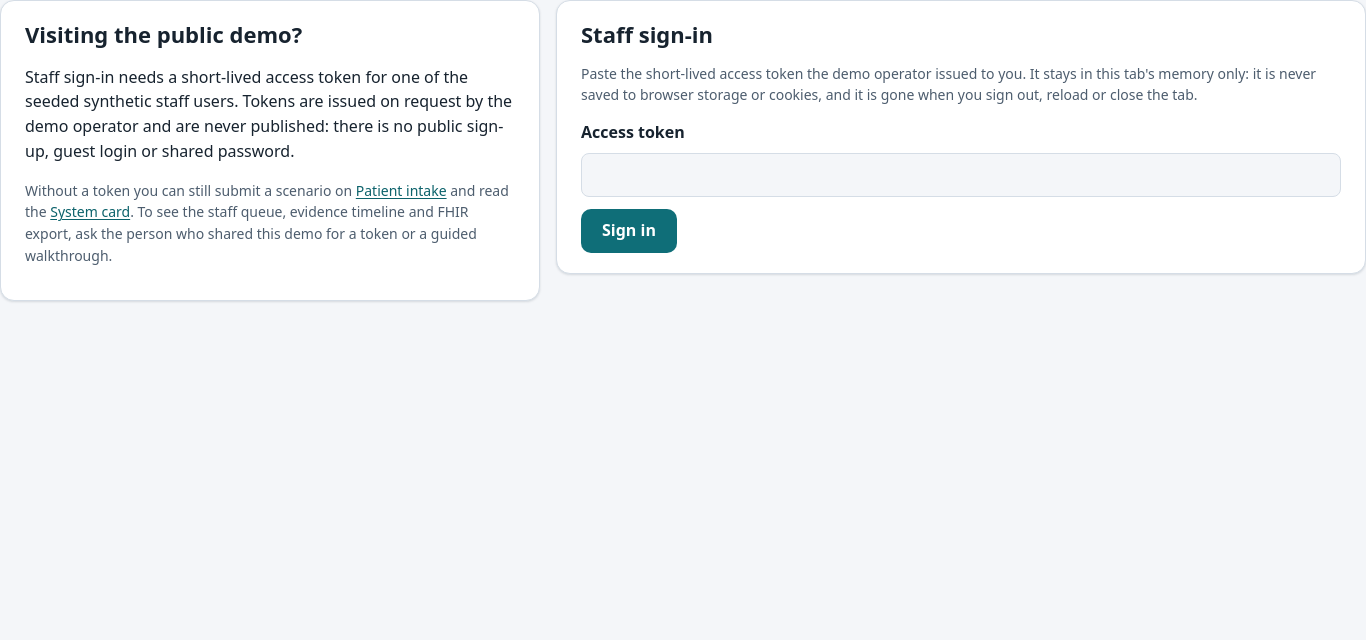
Test: StaffReview detail and transitions › transitions needs_review -> escalated and cannot transition again
In the password field labelled "Access token": x=961, y=175 [581, 153, 1341, 197], type "v1.payload.signature"
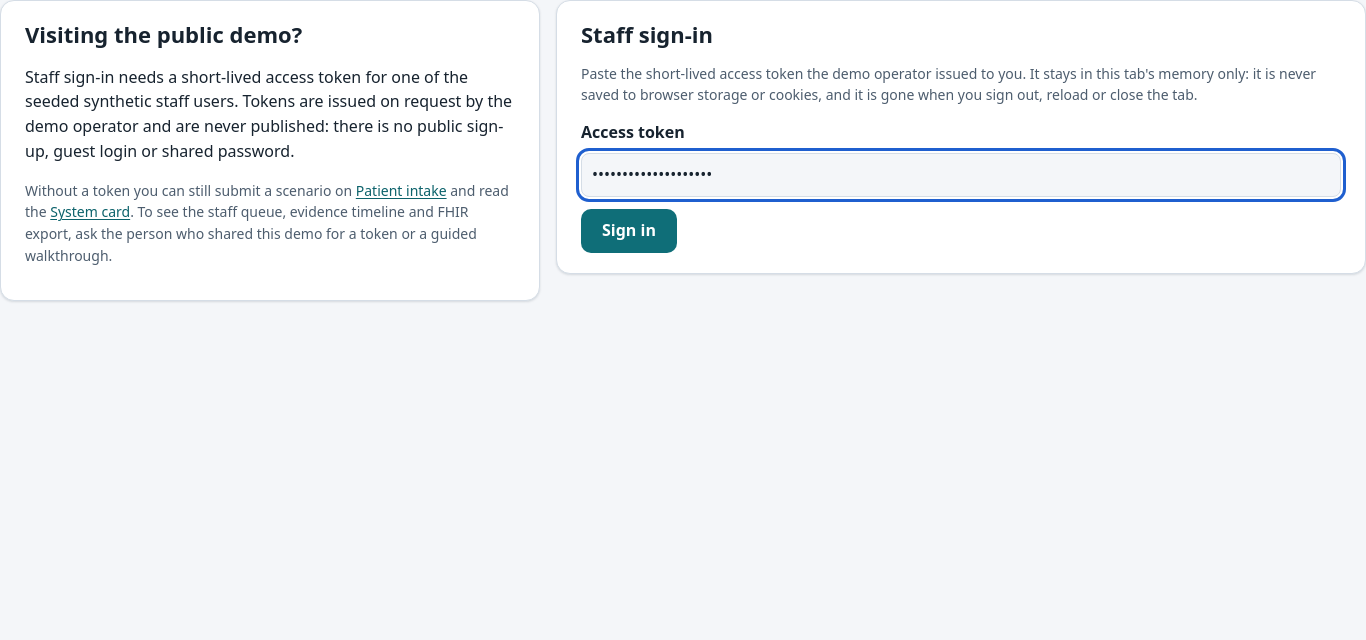
Click the button "Sign in": x=629, y=231 [581, 209, 677, 253]
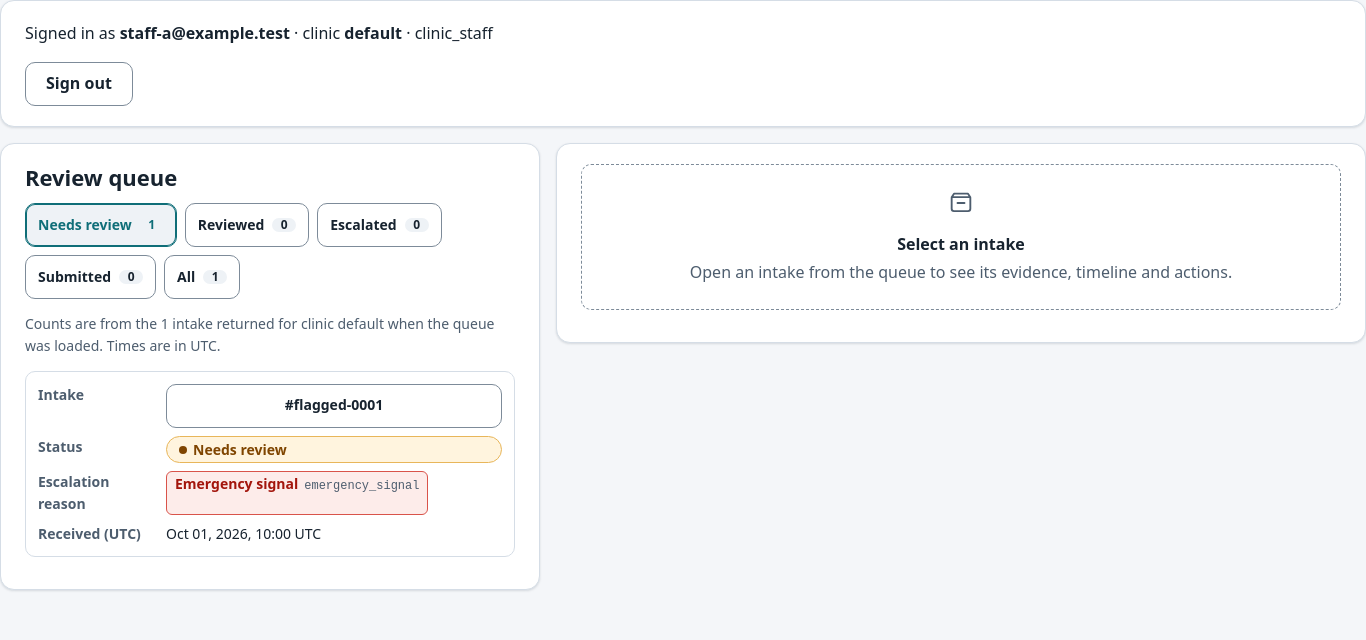
Click the button with aria-label "Open ": x=334, y=406 [166, 384, 502, 428]
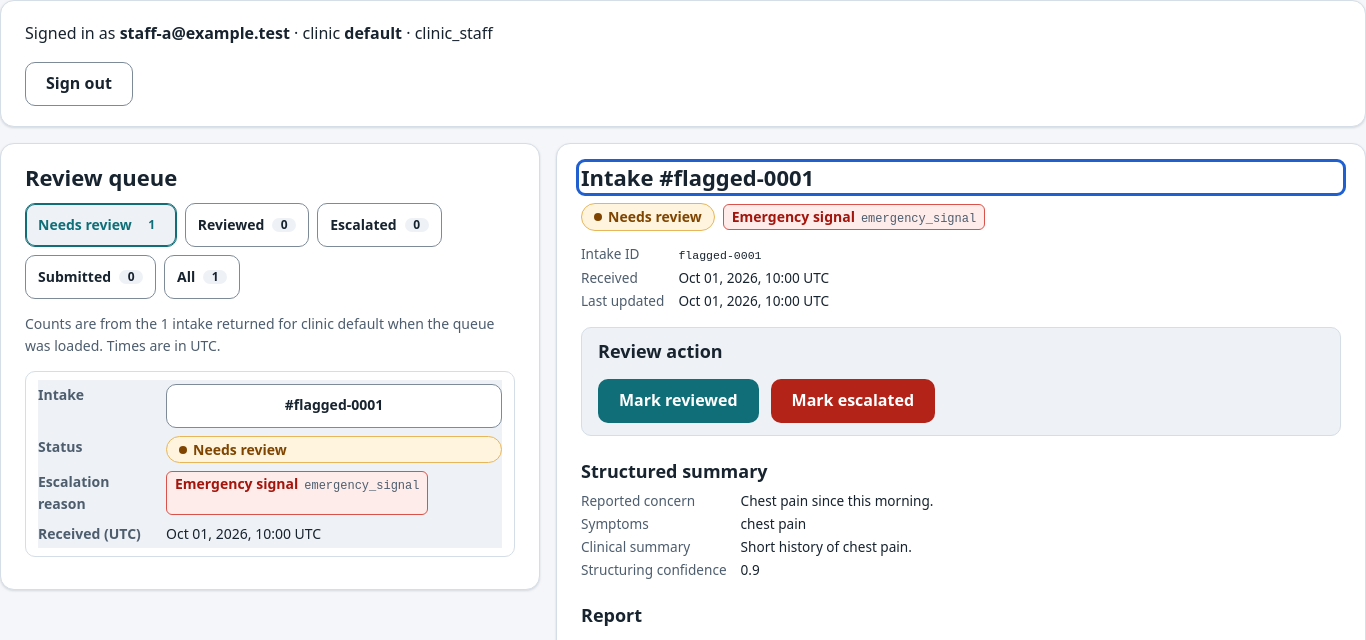
Click the button "Mark escalated": x=853, y=400 [771, 378, 935, 422]
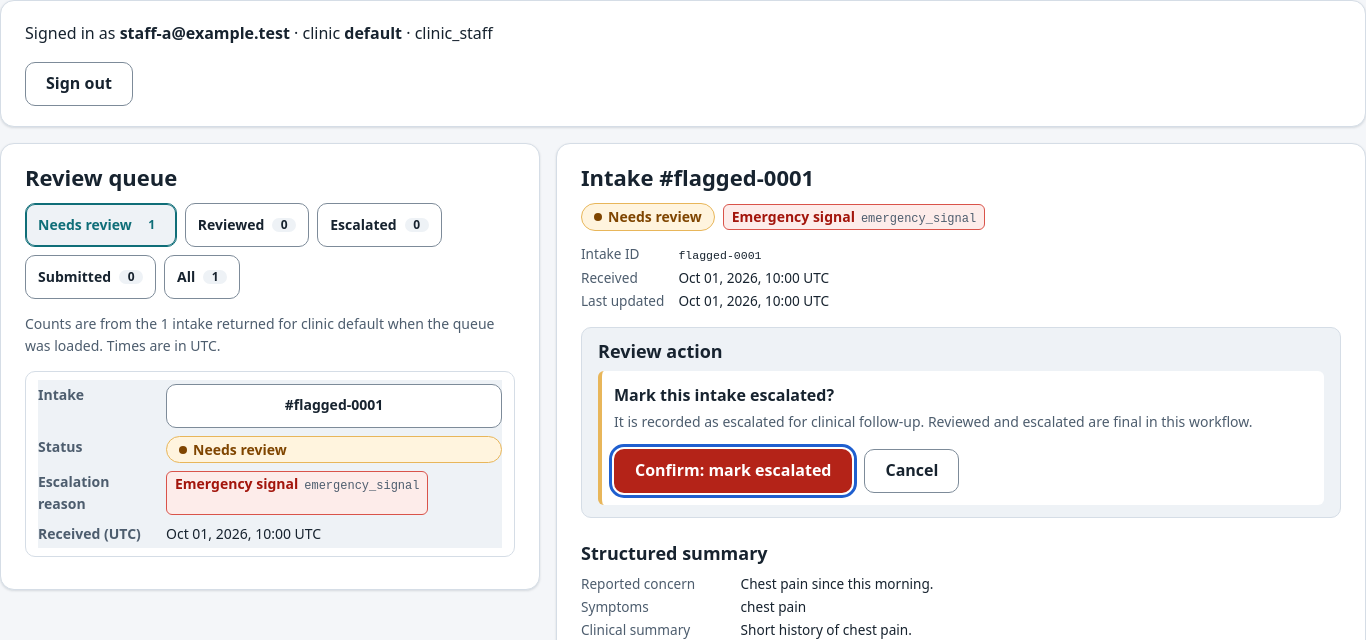
Click the button "Confirm: mark escalated": x=733, y=471 [614, 449, 852, 493]
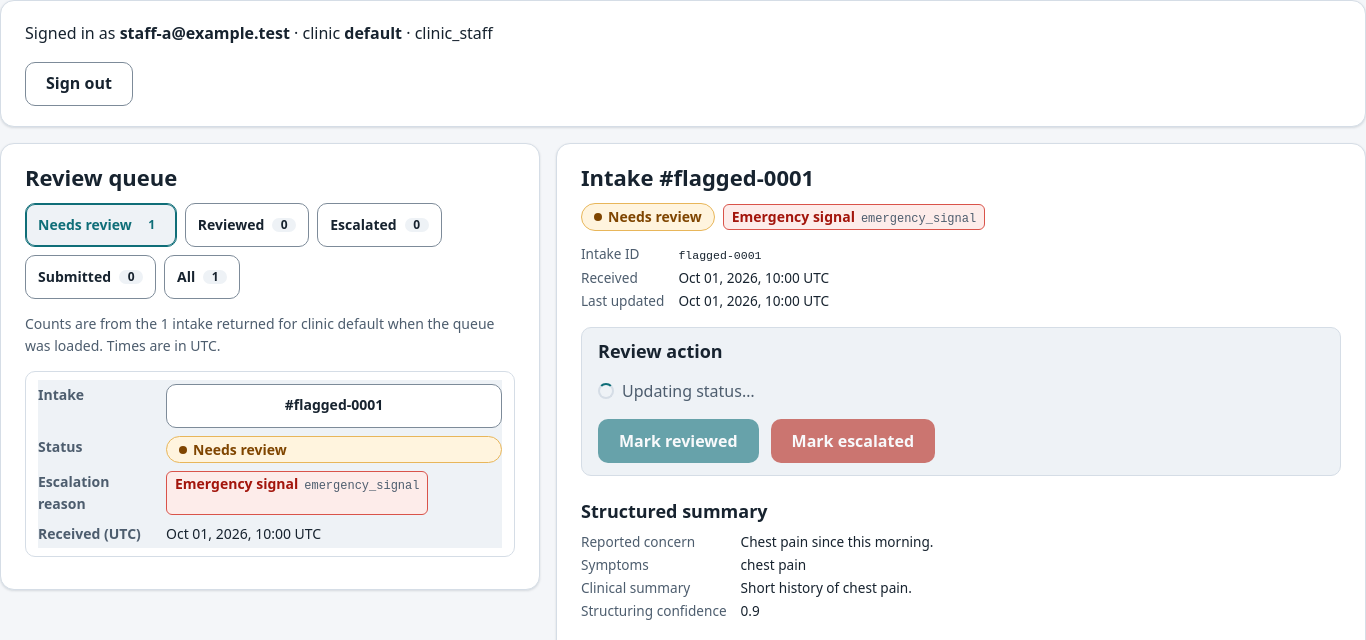
Check: the text "Updating status…" is shown, box [598, 380, 754, 402]
Check: the button "Mark reviewed" is disabled, box [598, 419, 759, 463]
Check: the button "Mark escalated" is disabled
Click the button "Mark escalated": x=853, y=441 [771, 419, 935, 463]
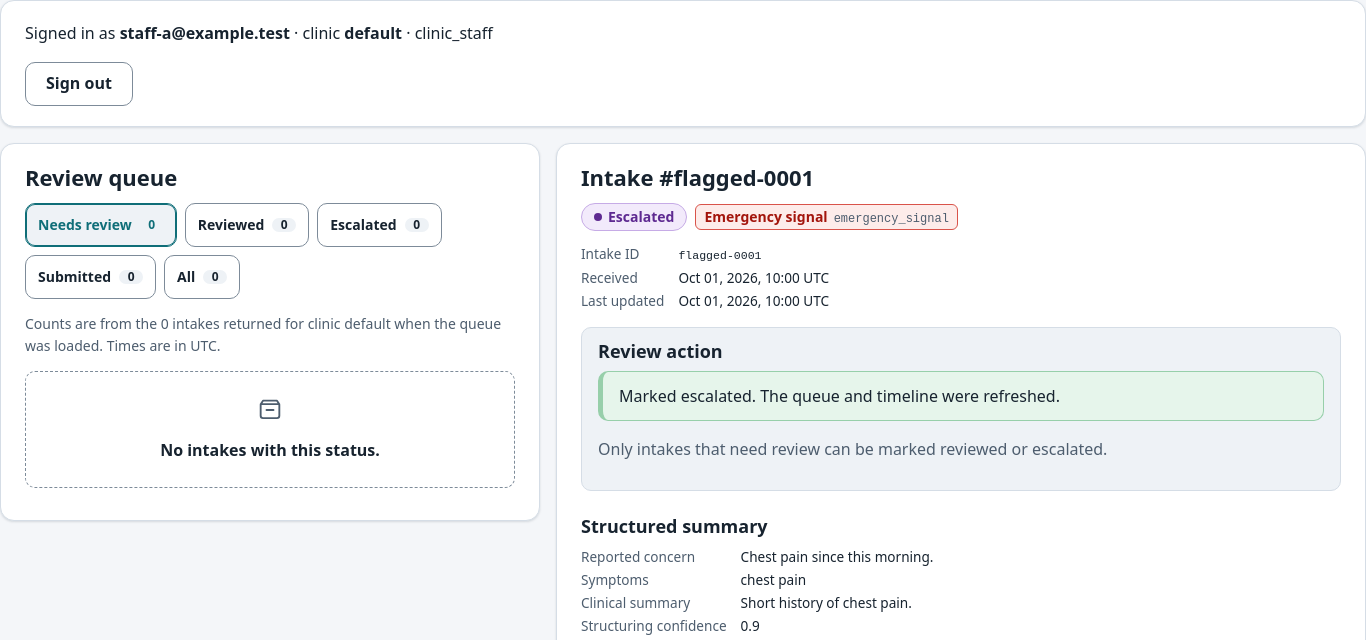
Check: the element with test id "detail-status" shows "Escalated", box [608, 207, 674, 226]
Check: the text "No intakes with this status." is shown, box [160, 440, 380, 462]
Check: the button "Mark reviewed" is gone
